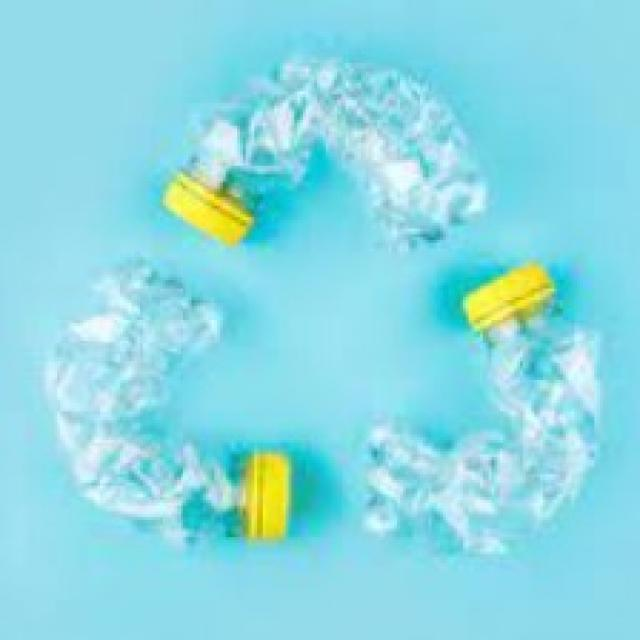food_waste: (37, 275, 300, 551)
plastic_bottle: (144, 45, 518, 269), (349, 270, 619, 571)
